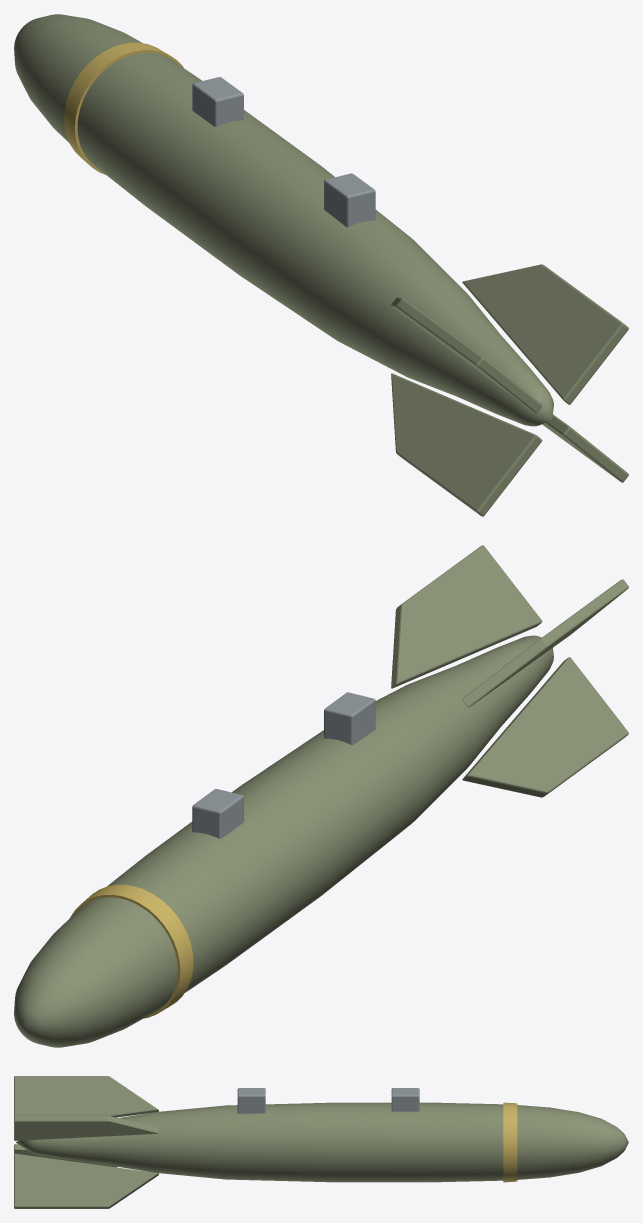
3 views of the same model, one above another, from view 1: azimuth 30°, elevation 25°; view 2: azimuth 150°, elevation 25°; view 3: azimuth 270°, elevation 25° (orthographic). The views are drawn at different scales.
Parts seen in each view (by area): view 1: static.Store olive, static.Dull metal, static.Store band ochre; view 2: static.Store olive, static.Dull metal, static.Store band ochre; view 3: static.Store olive, static.Dull metal, static.Store band ochre.
Boxes of the visible parts, left/top/right/bottom form: static.Store olive: left=14, top=14, right=628, bottom=516; static.Dull metal: left=192, top=77, right=375, bottom=227; static.Store band ochre: left=64, top=42, right=183, bottom=174; static.Store olive: left=14, top=545, right=628, bottom=1047; static.Dull metal: left=192, top=692, right=375, bottom=838; static.Store band ochre: left=70, top=884, right=193, bottom=1018; static.Store olive: left=14, top=1076, right=628, bottom=1208; static.Dull metal: left=237, top=1088, right=419, bottom=1113; static.Store band ochre: left=503, top=1102, right=517, bottom=1182.
Bounding box in the file's own units: 0.3672 × 0.3836 × 2.2.
